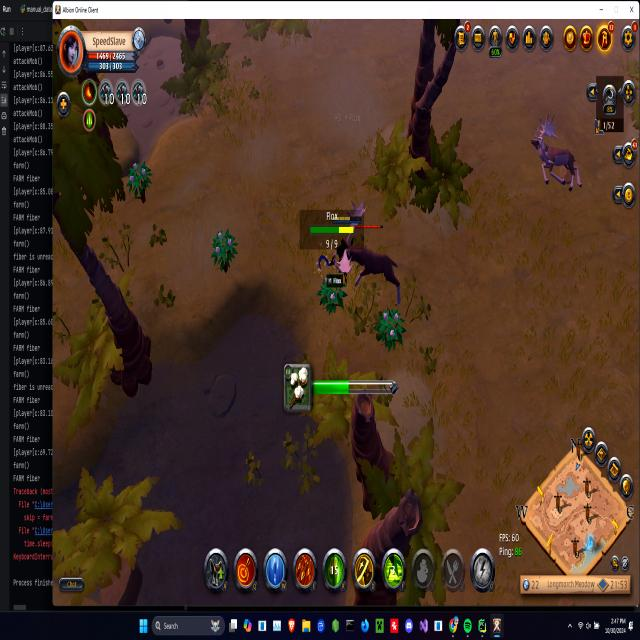hide: (374, 303, 405, 354), (210, 222, 238, 275), (318, 272, 346, 318), (127, 158, 152, 202)
mob: (530, 113, 584, 195)
ore: (341, 198, 404, 299)
red: (326, 209, 362, 277)
